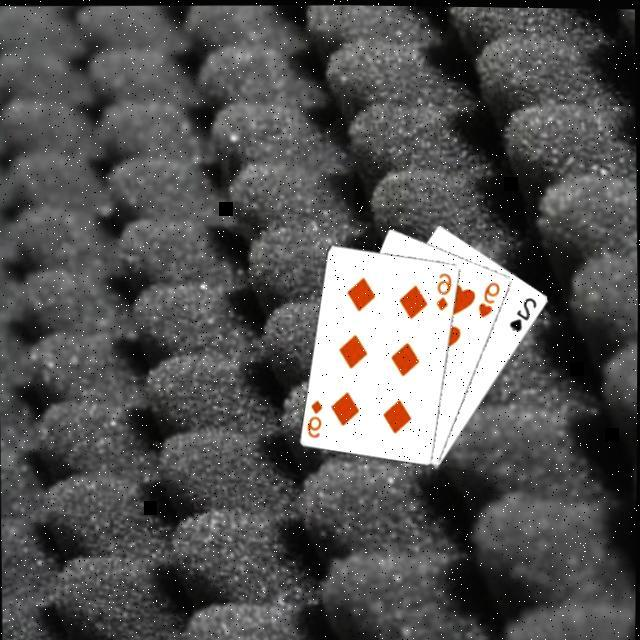2S: (504, 291, 539, 332)
6D: (301, 394, 324, 438), (431, 268, 454, 310)
9H: (473, 276, 502, 318)
